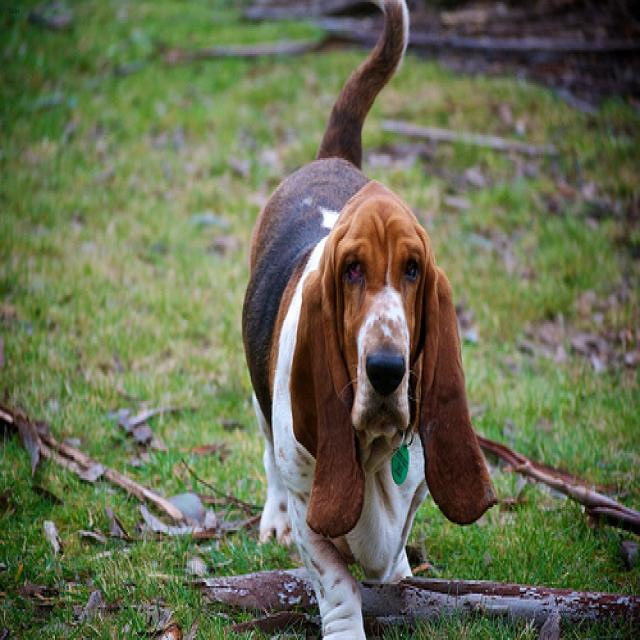dog-basset_hound: (233, 2, 506, 636)
